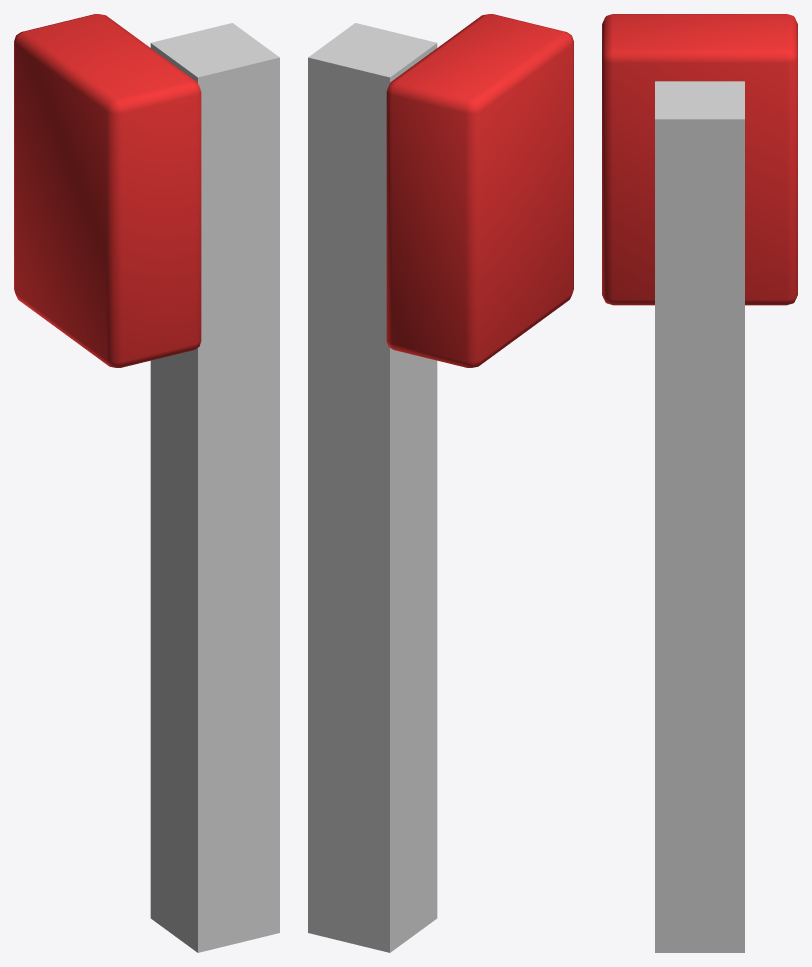
File: Obstacle_Cleaner.fbx
3 views of the same model, side by side, from view 1: azimuth 30°, elevation 25°; view 2: azimuth 150°, elevation 25°; view 3: azimuth 270°, elevation 25° (orthographic). The views are drawn at different scales.
Parts seen in each view (by area): view 1: Cleaner_Base, Cleaner_Head; view 2: Cleaner_Base, Cleaner_Head; view 3: Cleaner_Base, Cleaner_Head.
Boxes of the visible parts, bbox=[...] form: Cleaner_Base: bbox=[150, 23, 279, 952]; Cleaner_Head: bbox=[14, 14, 201, 367]; Cleaner_Base: bbox=[308, 23, 437, 952]; Cleaner_Head: bbox=[386, 14, 573, 367]; Cleaner_Base: bbox=[655, 81, 744, 952]; Cleaner_Head: bbox=[602, 14, 797, 305].
Size of the model in its own units: 2.38 by 10.43 by 2.17.
